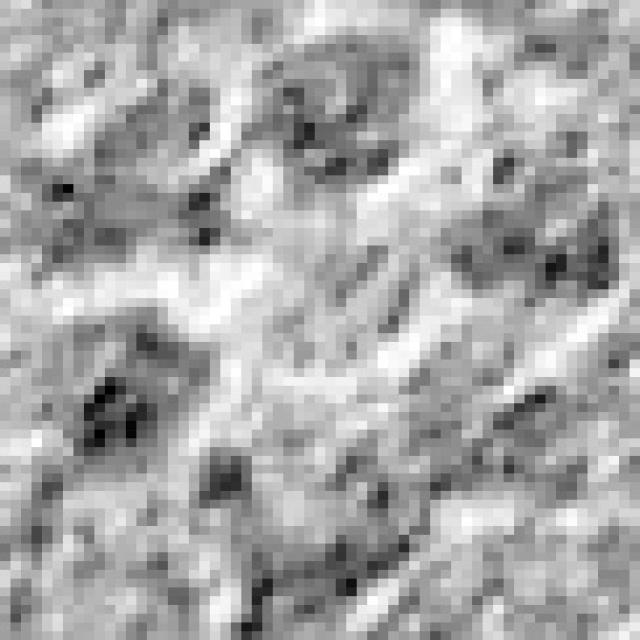inner: (239, 233, 427, 372)
lobe: (23, 83, 244, 280), (204, 436, 409, 617), (411, 324, 584, 509), (250, 31, 427, 200), (445, 147, 624, 308), (35, 315, 215, 472)
outer: (0, 1, 640, 640)
